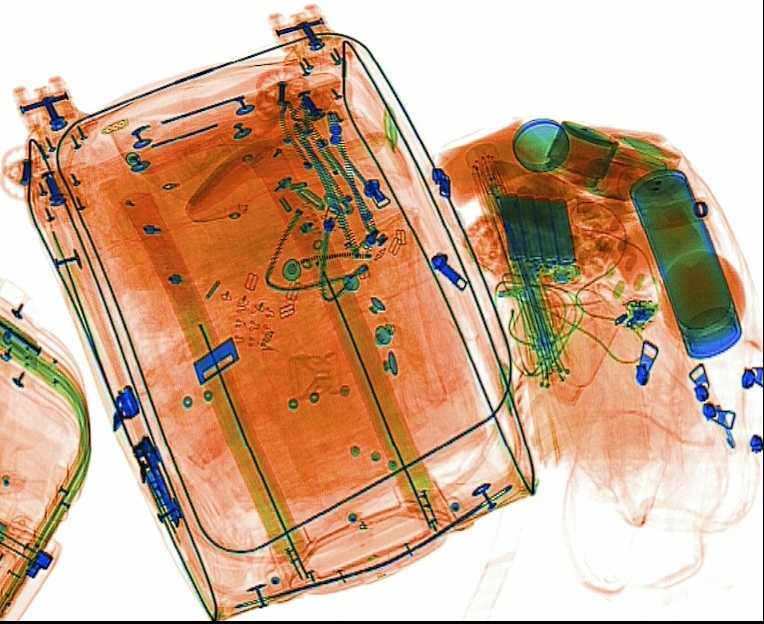powerbank: (490, 187, 583, 287)
